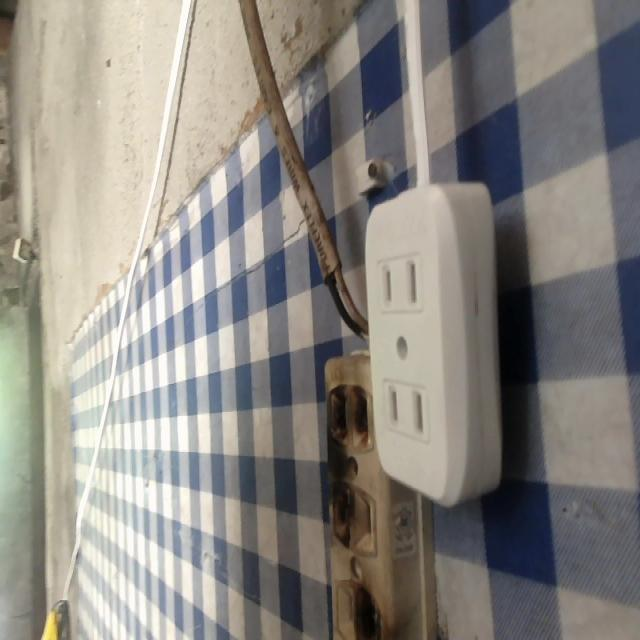-: (321, 379, 373, 456), (321, 480, 361, 555), (352, 582, 388, 638)
